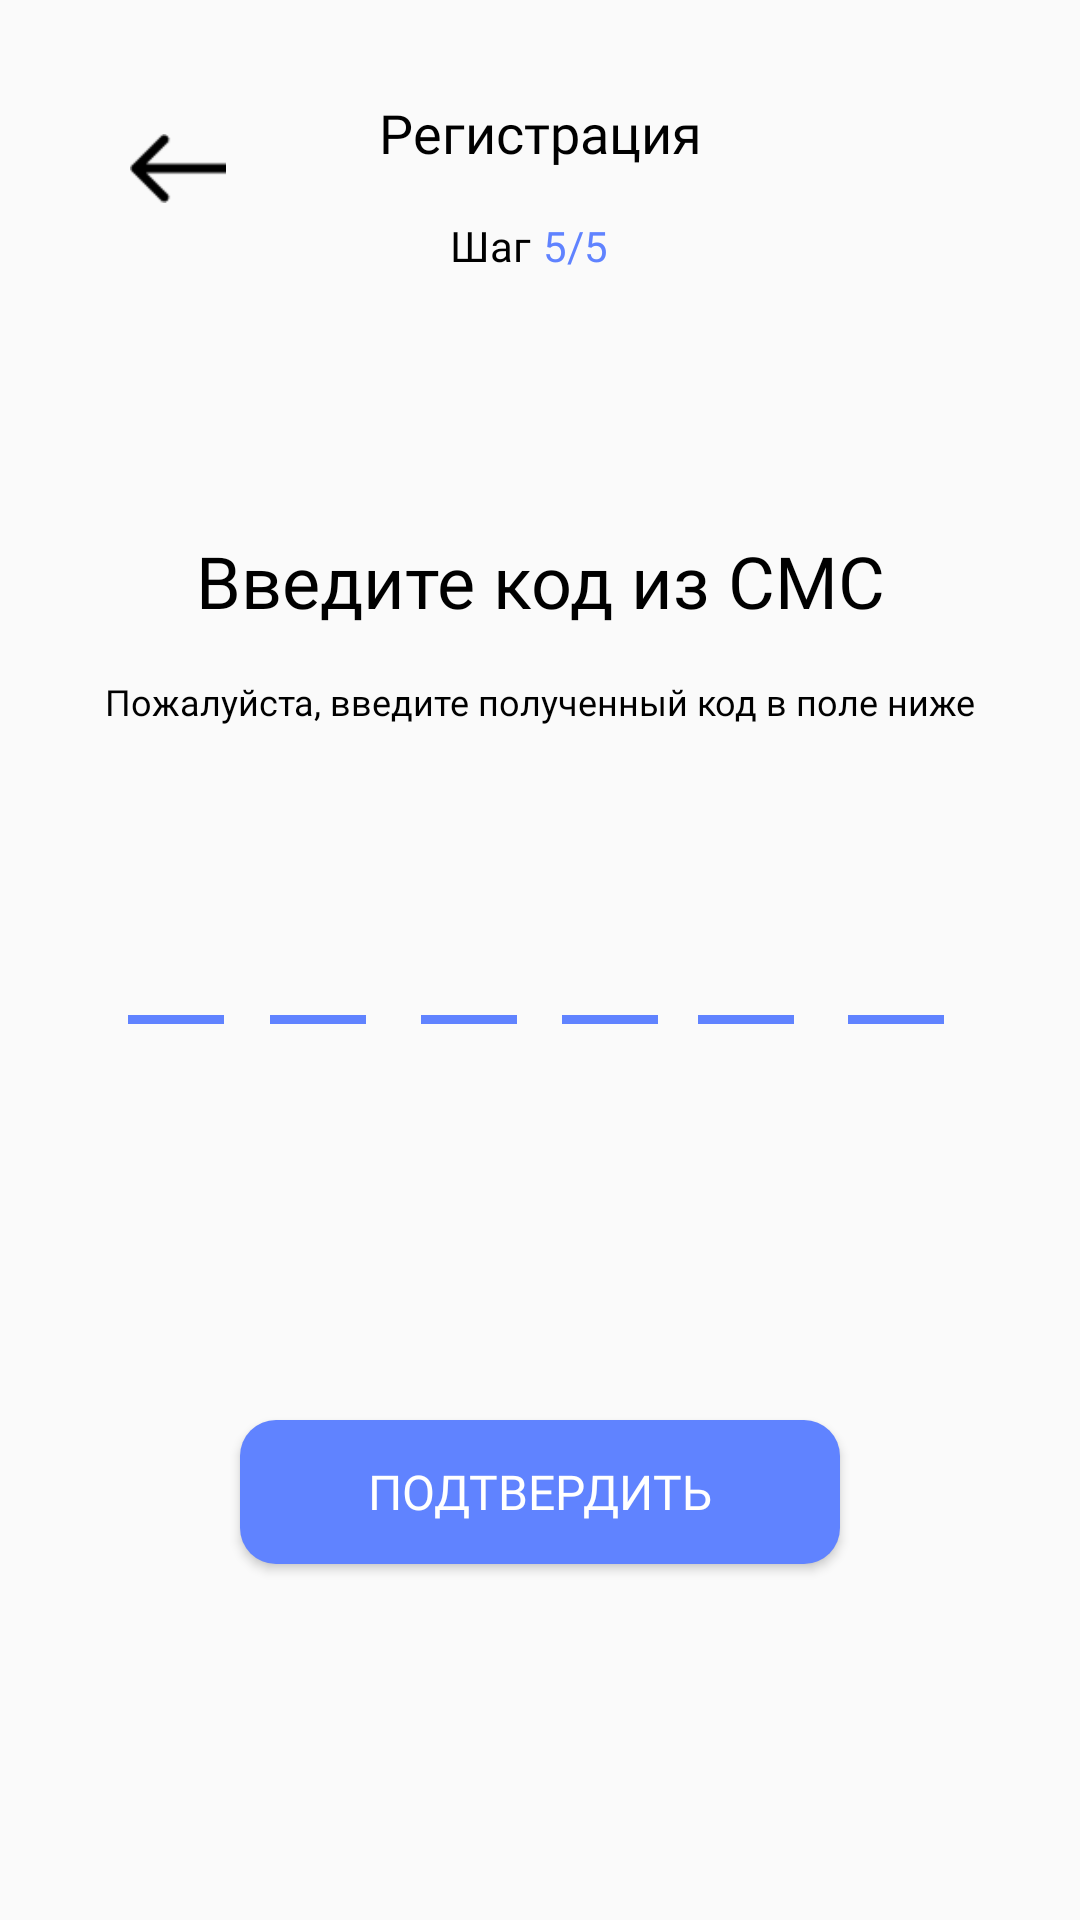

Icons on this 1080*1920 Android screen, each with the point to tap as point (x, y):
Выйти: point (178, 168)
